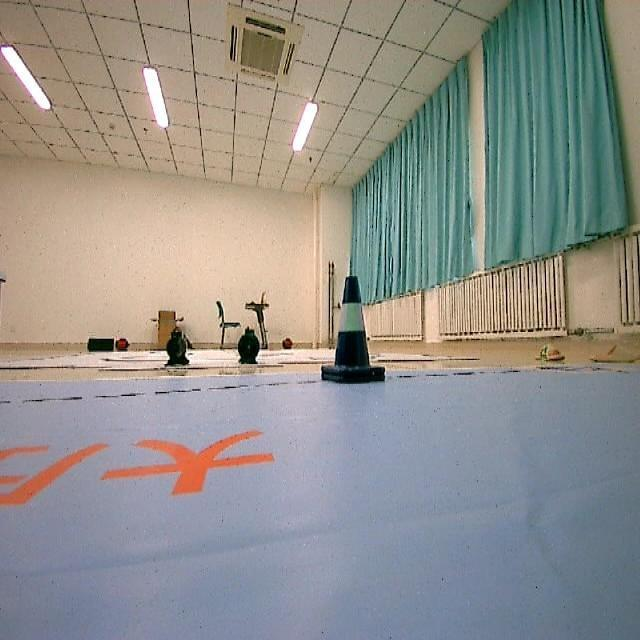obstacle: (318, 277, 389, 392)
